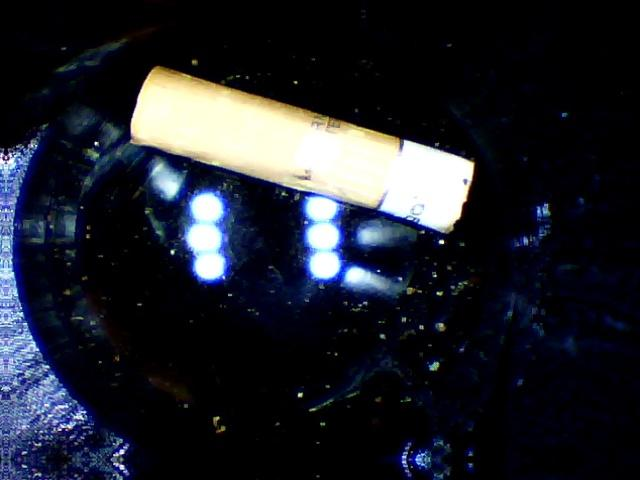megot: (122, 59, 477, 241)
